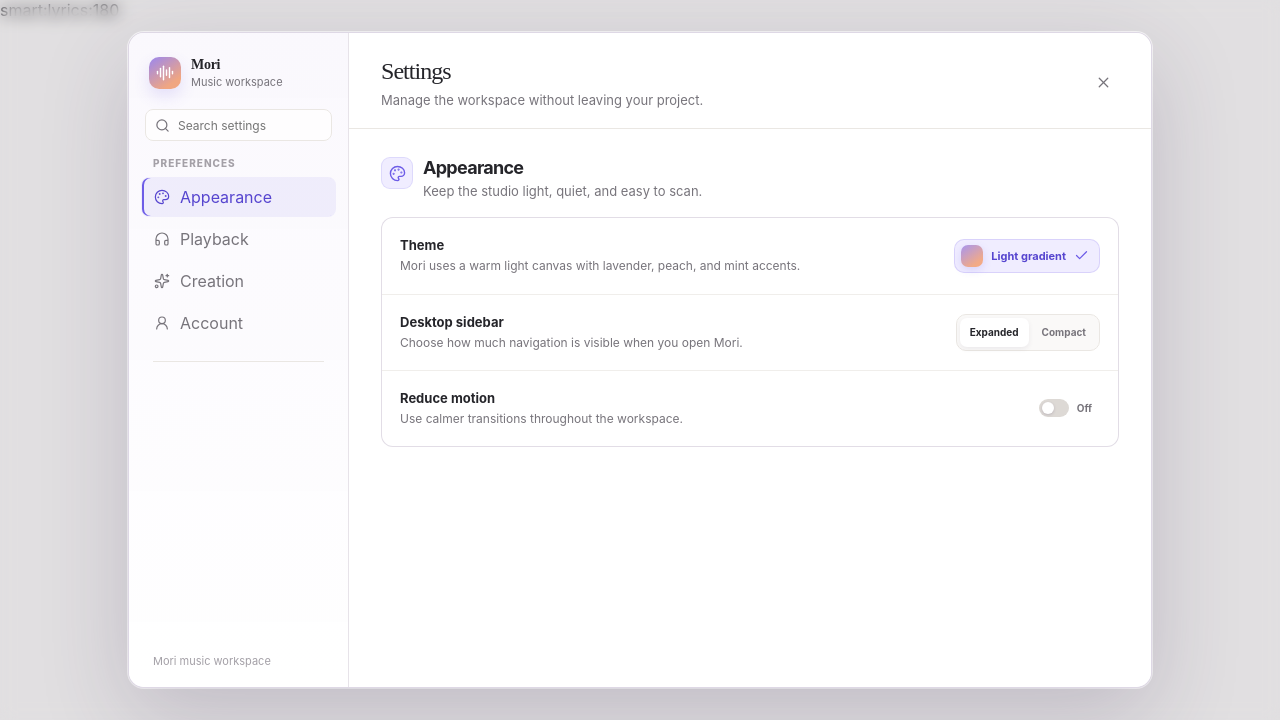
Test: Mori settings › shares creation defaults with the next Create surface
Click the tab "Creation".
click(238, 281)  # box [141,261,336,301]
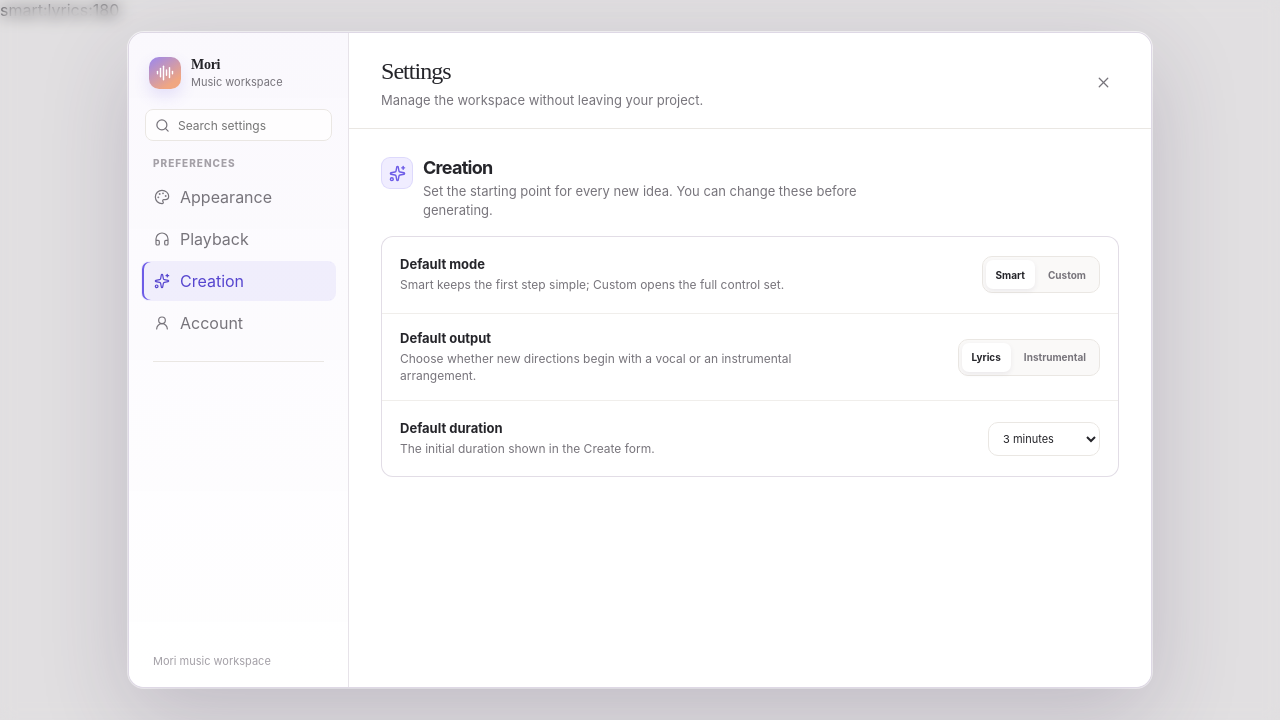
Click the button "Custom".
click(1067, 275)  # box [1038,260,1096,289]
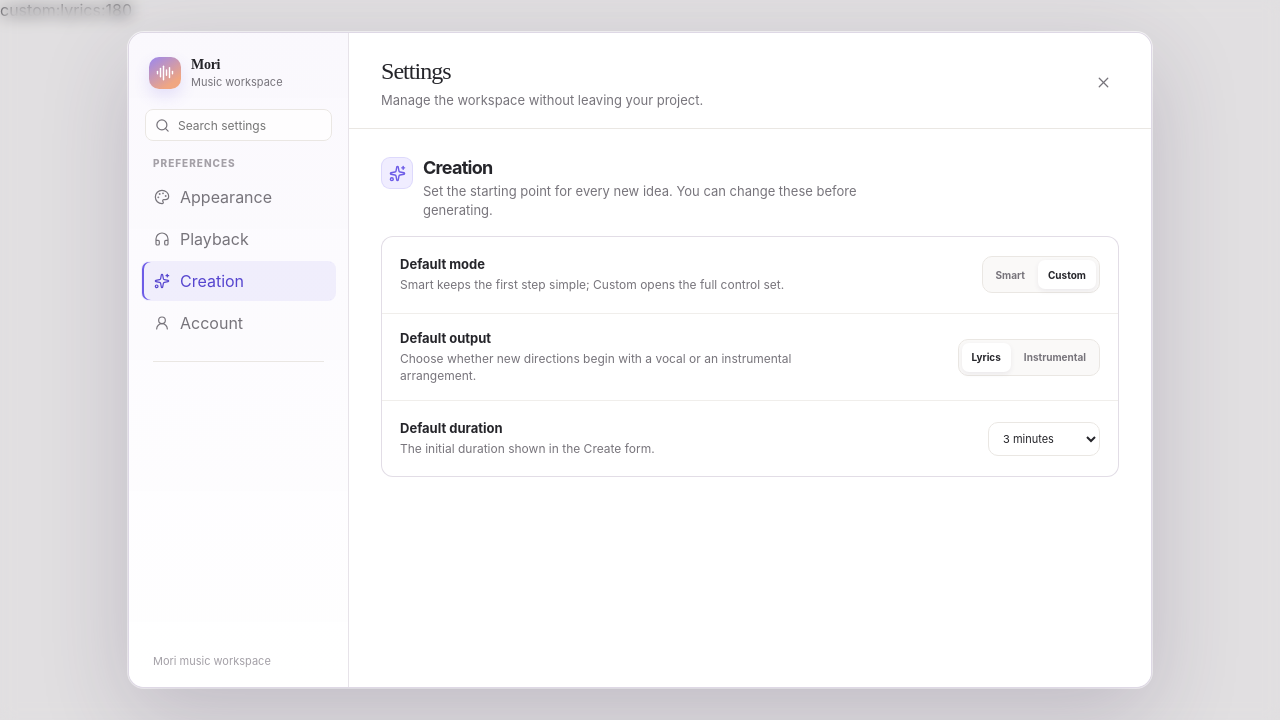
Click the button "Instrumental".
click(1055, 357)  # box [1014,343,1096,372]
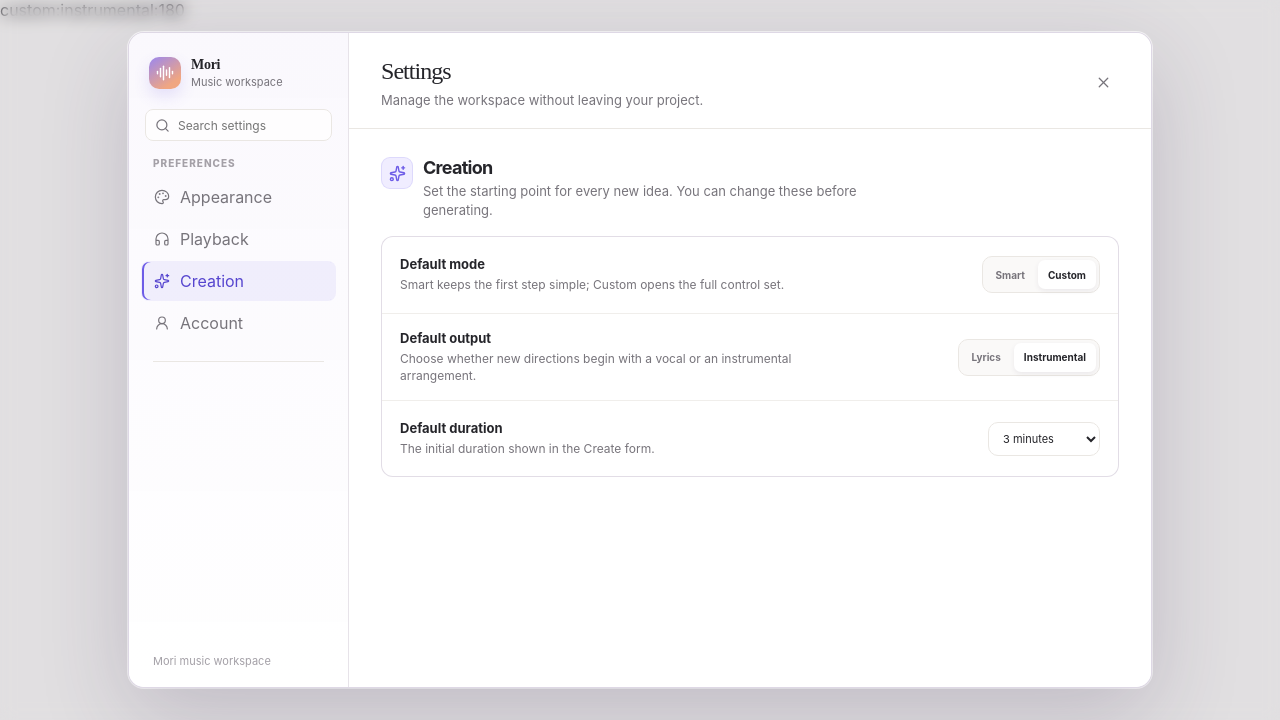
Select "4 minutes" in the dropdown named "Default duration" at (1044, 439), box [988,422,1100,456]
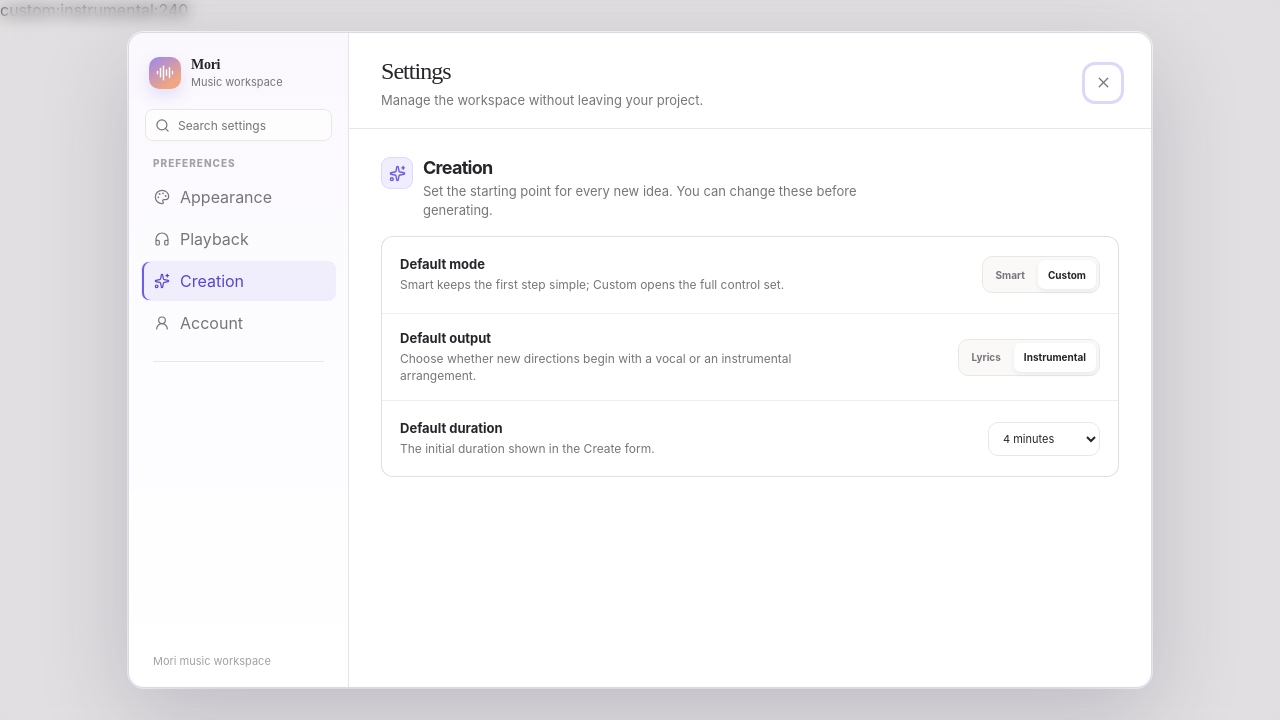
Now the element named "Default creation mode" shows "Custom", box [1038,260,1096,289]
Now the text named "creation defaults" reads "custom:instrumental:240", box [0,0,188,20]
